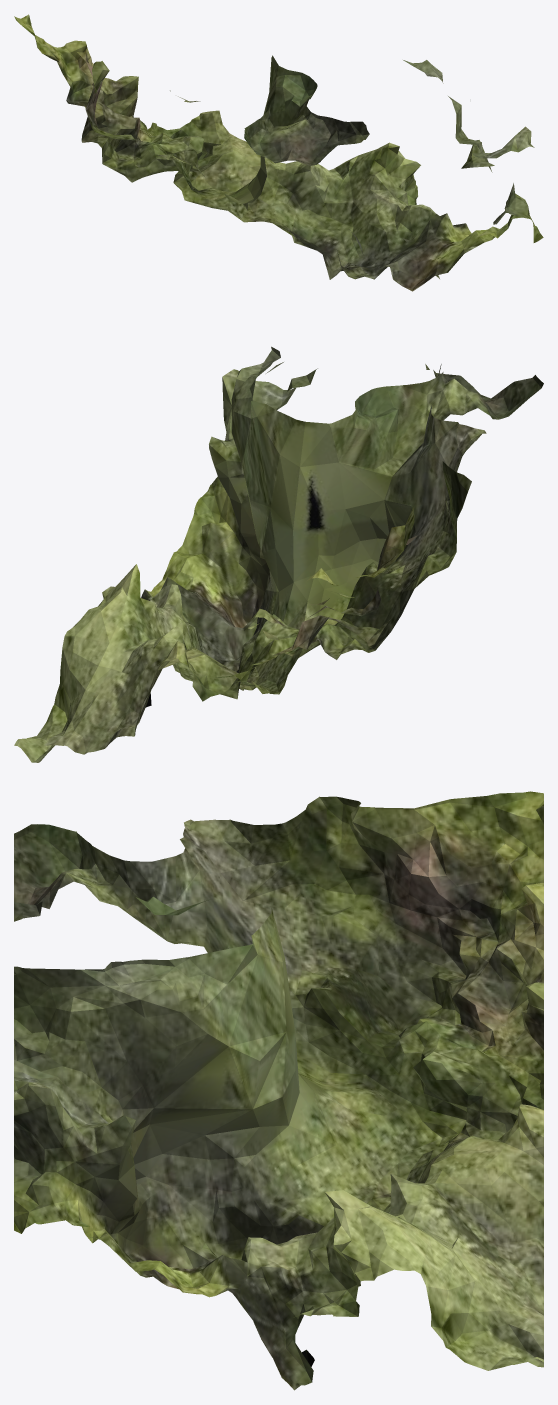
3 renders of one model, top to bottom at view 1: azimuth 30°, elevation 25°; view 2: azimuth 150°, elevation 25°; view 3: azimuth 270°, elevation 25°, orthographic. The views are drawn at different scales.
Bounding box in the file's own units: 11.73 × 9.31 × 11.8.
4 materials, 4 textured.
